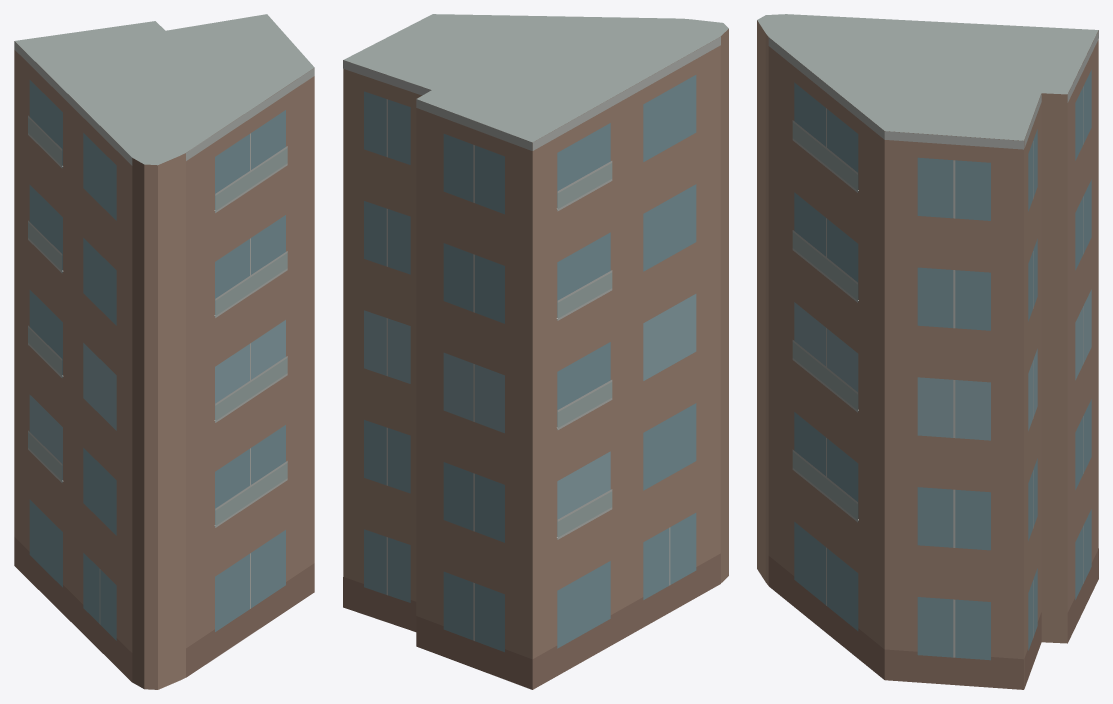
File: survey-upis-32896312.glb
3 views of the same model, side by side, from view 1: azimuth 30°, elevation 25°; view 2: azimuth 150°, elevation 25°; view 3: azimuth 270°, elevation 25° (orthographic). The views are drawn at different scales.
Visible parts, largest first — view 1: survey-upis-32896312.tmp; view 2: survey-upis-32896312.tmp; view 3: survey-upis-32896312.tmp.
Boxes of the visible parts, x1,y1,x2,y2 form: survey-upis-32896312.tmp: (14, 14, 314, 689); survey-upis-32896312.tmp: (343, 14, 728, 689); survey-upis-32896312.tmp: (757, 14, 1098, 689).
Bounding box in the file's own units: 7.56 × 15.25 × 8.6.
